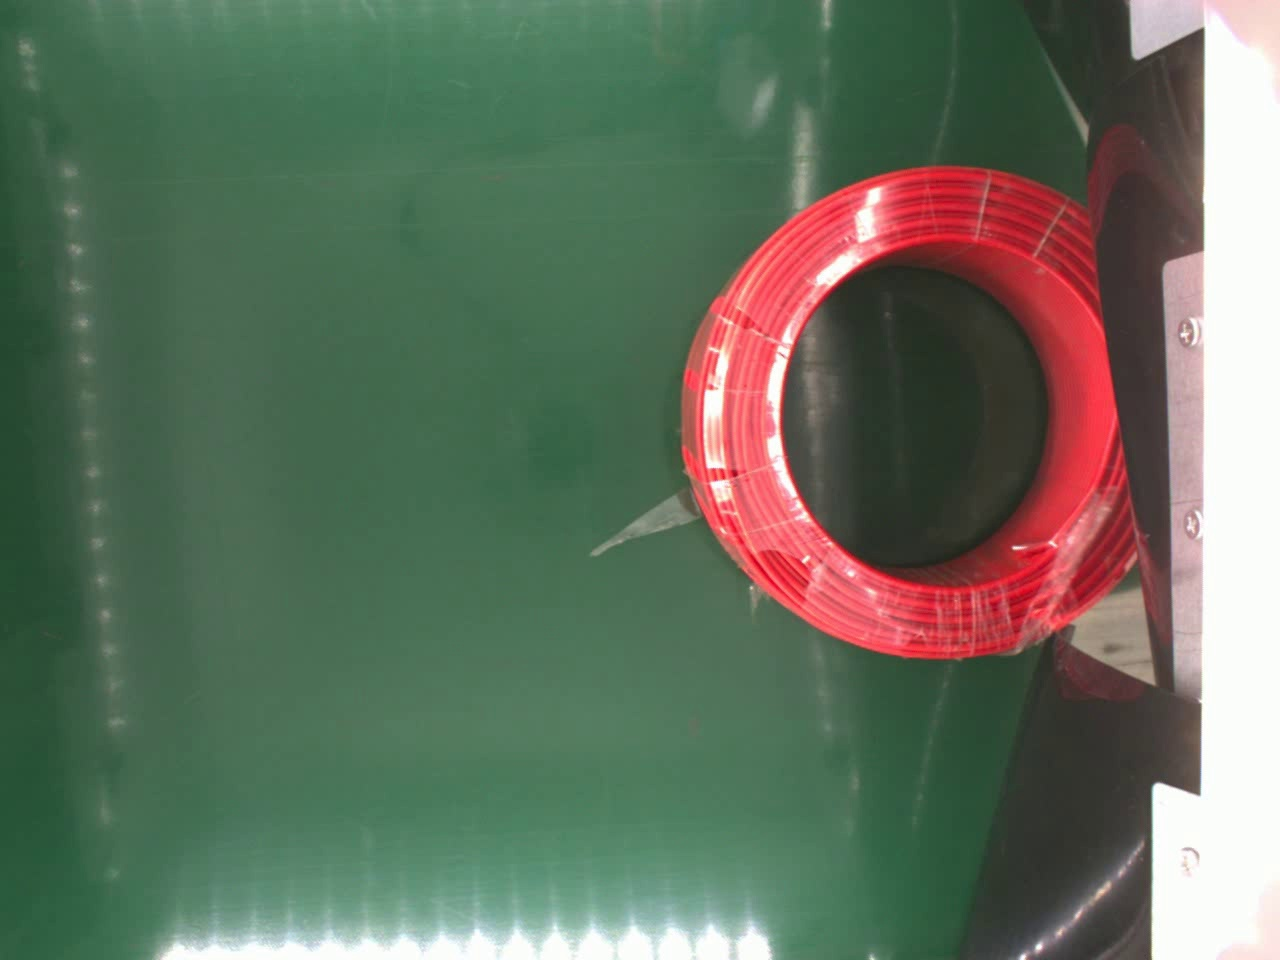red: (678, 165, 1143, 663)
